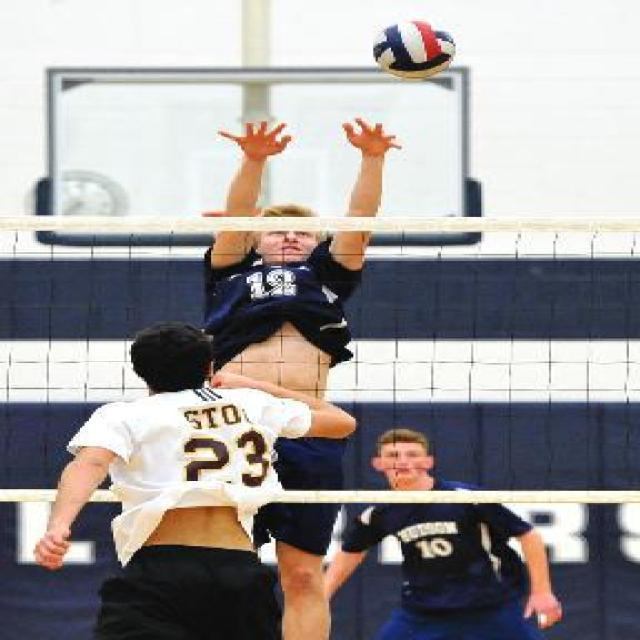volleyball: (372, 20, 456, 78)
